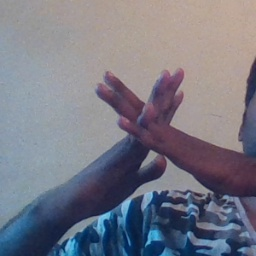W: (85, 57, 210, 205)
